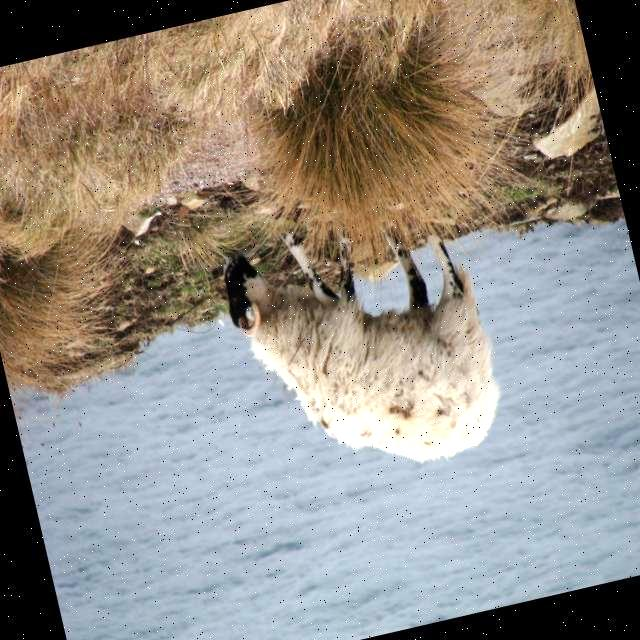sheep: (223, 234, 497, 460)
